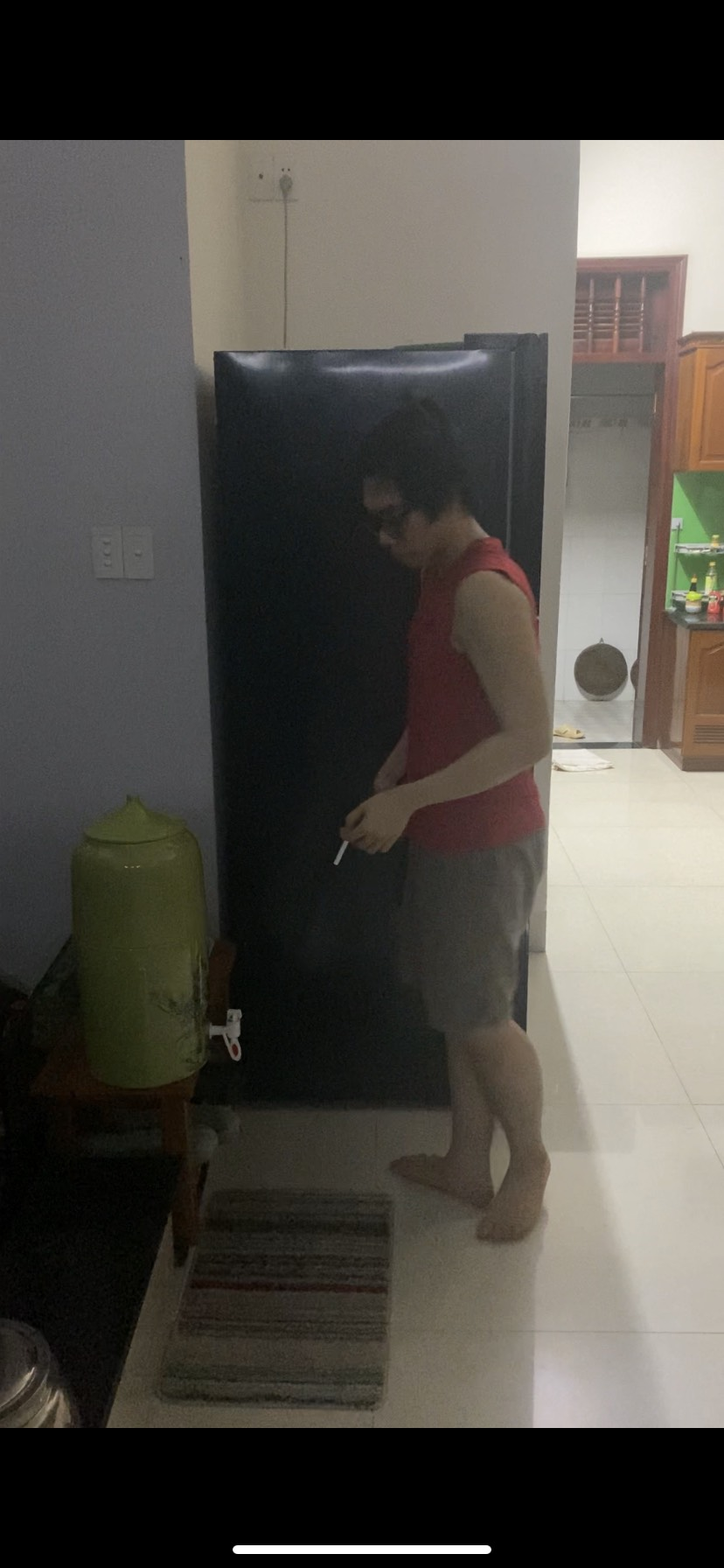cigarette: (330, 837, 352, 870)
person: (333, 447, 556, 1242)
